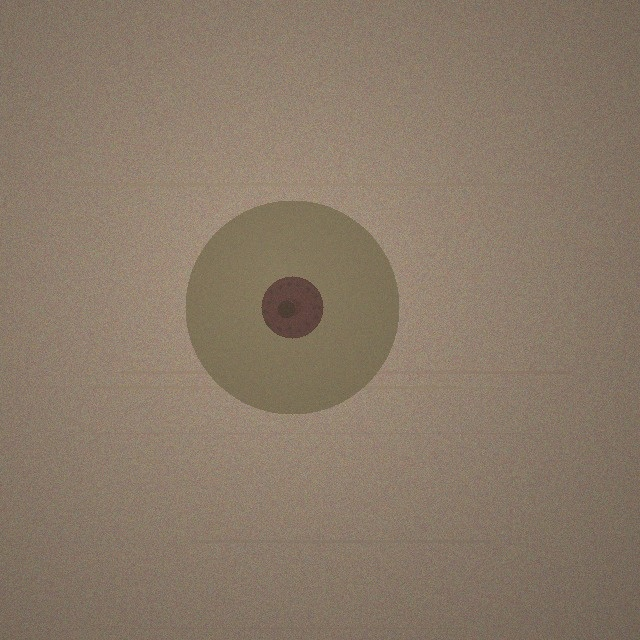cold_weld: (185, 200, 399, 414)
